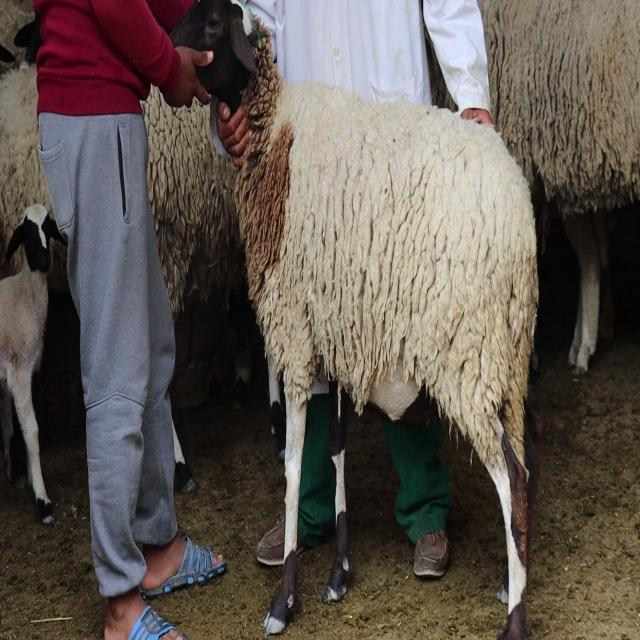Score_4: (171, 0, 543, 639)
